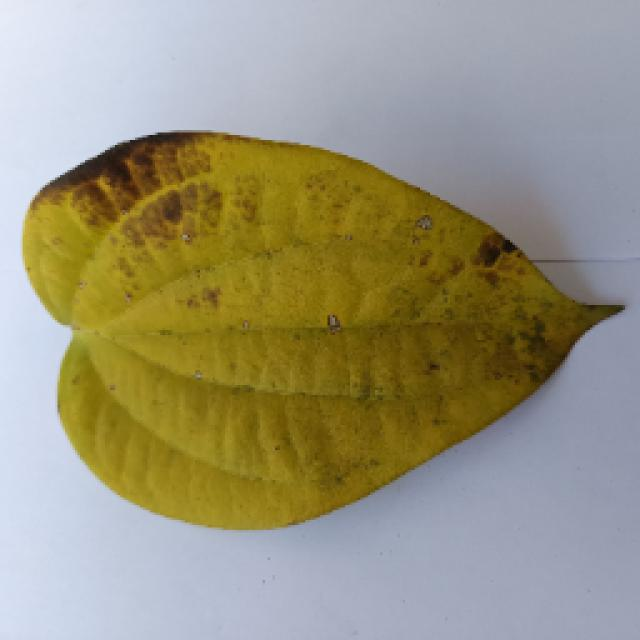slow-decline: (17, 130, 625, 535)
